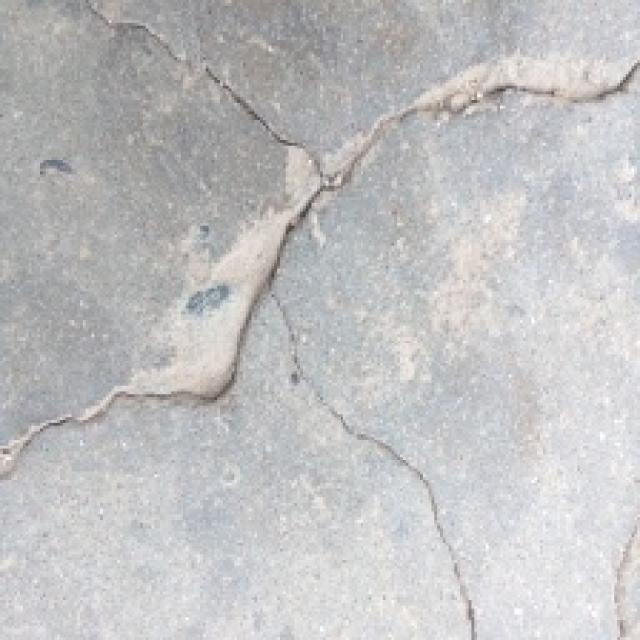SurfaceCrack: (0, 50, 640, 468), (228, 208, 520, 640)
